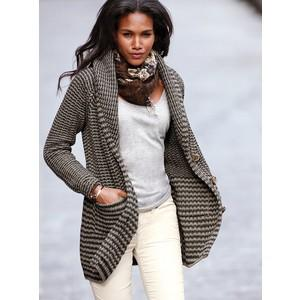S_cardigan sweater: (53, 64, 238, 258)
